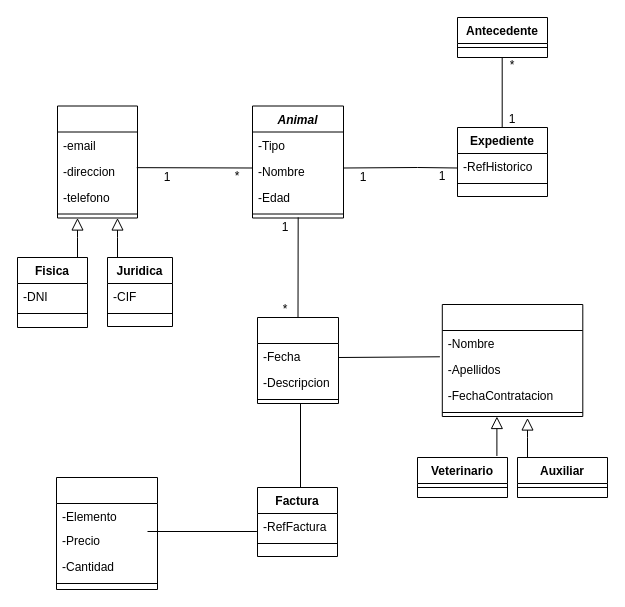
This 625x607 diagram has some shape labels left out. The box of each missing label's shape, as (x1, y1, x2, y2) in pixels:
Diagnostico: (256, 316, 338, 404)
ElementoFactura: (56, 476, 158, 590)
Persona: (56, 105, 138, 218)
Personal: (441, 304, 583, 416)
